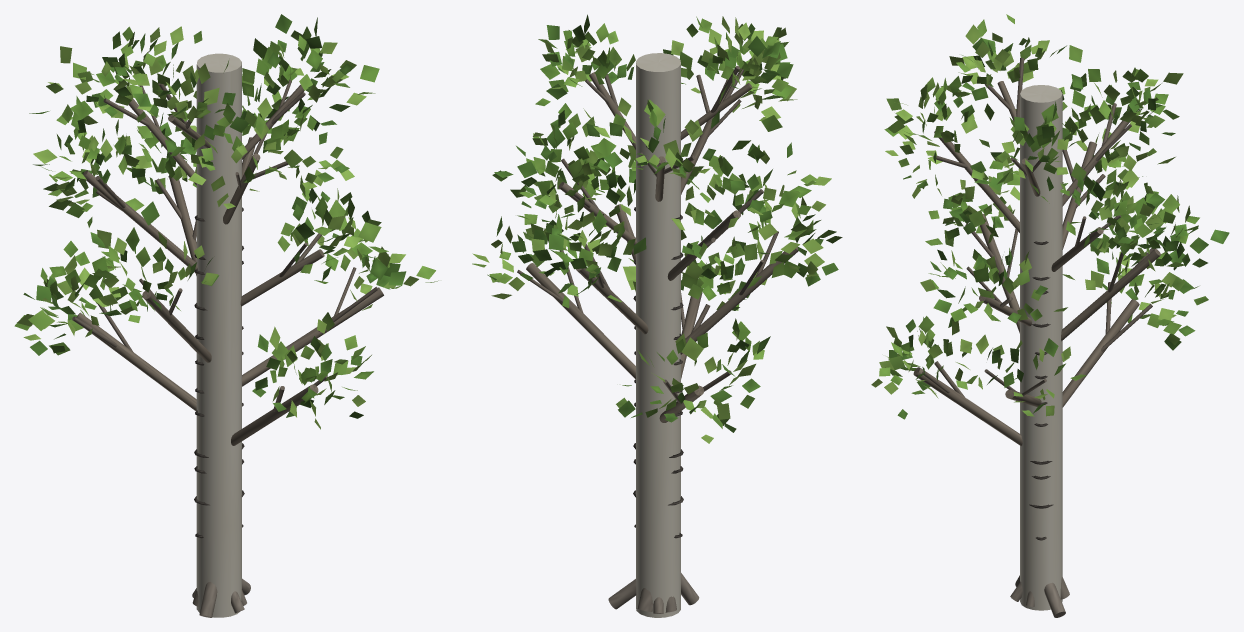
File: mature-lod0.glb
The picture shows the model from 3 angles, left to right: view 1: azimuth 30°, elevation 25°; view 2: azimuth 150°, elevation 25°; view 3: azimuth 270°, elevation 25°; orthographic projection. The views are drawn at different scales.
Visible parts, largest first — view 1: birch-bifurcated-twigs-and-leaves, birch-bark-branches-buried-roots-ground-blend; view 2: birch-bifurcated-twigs-and-leaves, birch-bark-branches-buried-roots-ground-blend; view 3: birch-bifurcated-twigs-and-leaves, birch-bark-branches-buried-roots-ground-blend.
Part boxes in pixels (x1=…): birch-bifurcated-twigs-and-leaves: x1=14, y1=14, x2=438, y2=429; birch-bark-branches-buried-roots-ground-blend: x1=72, y1=53, x2=383, y2=617; birch-bifurcated-twigs-and-leaves: x1=472, y1=14, x2=842, y2=443; birch-bark-branches-buried-roots-ground-blend: x1=517, y1=53, x2=798, y2=617; birch-bifurcated-twigs-and-leaves: x1=871, y1=14, x2=1229, y2=419; birch-bark-branches-buried-roots-ground-blend: x1=913, y1=58, x2=1160, y2=617.
Size of the model in its own units: 13.45 by 21.85 by 12.85.
